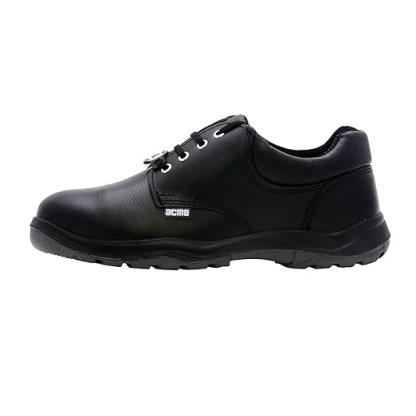bota: (23, 109, 394, 275)
